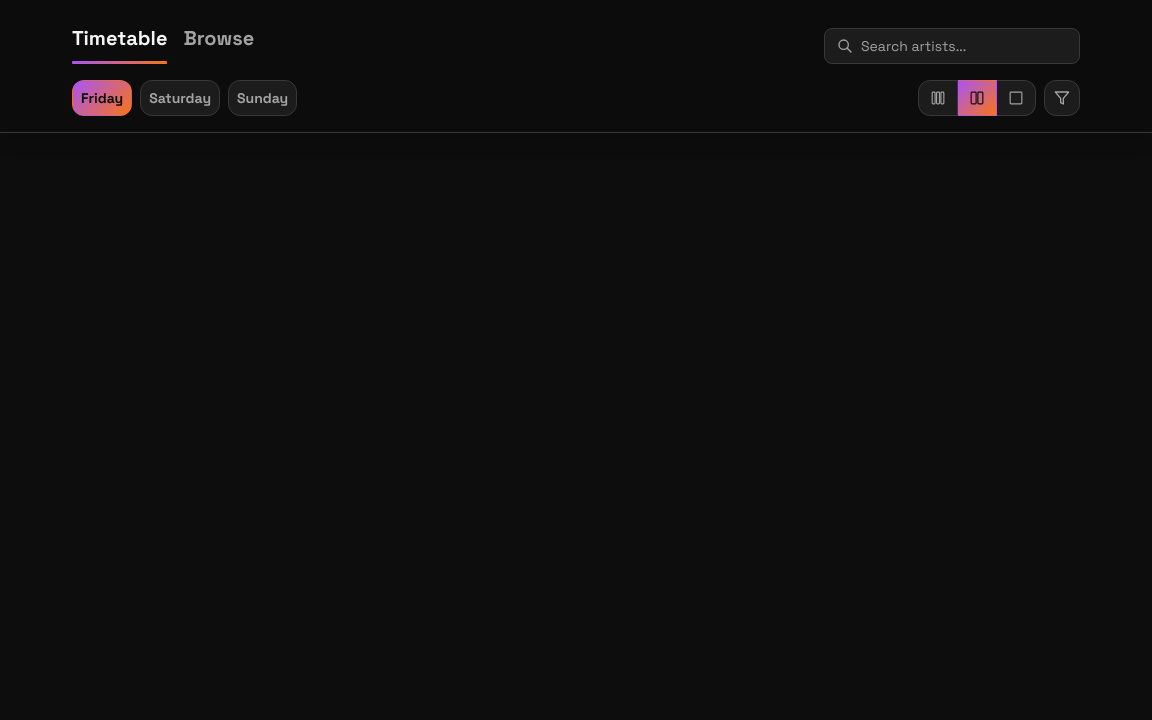
Test: Controls › opens filter dropdown and shows stage pills
Click the button named "Filters": click(1062, 98) x1=1044 y1=80 x2=1080 y2=116
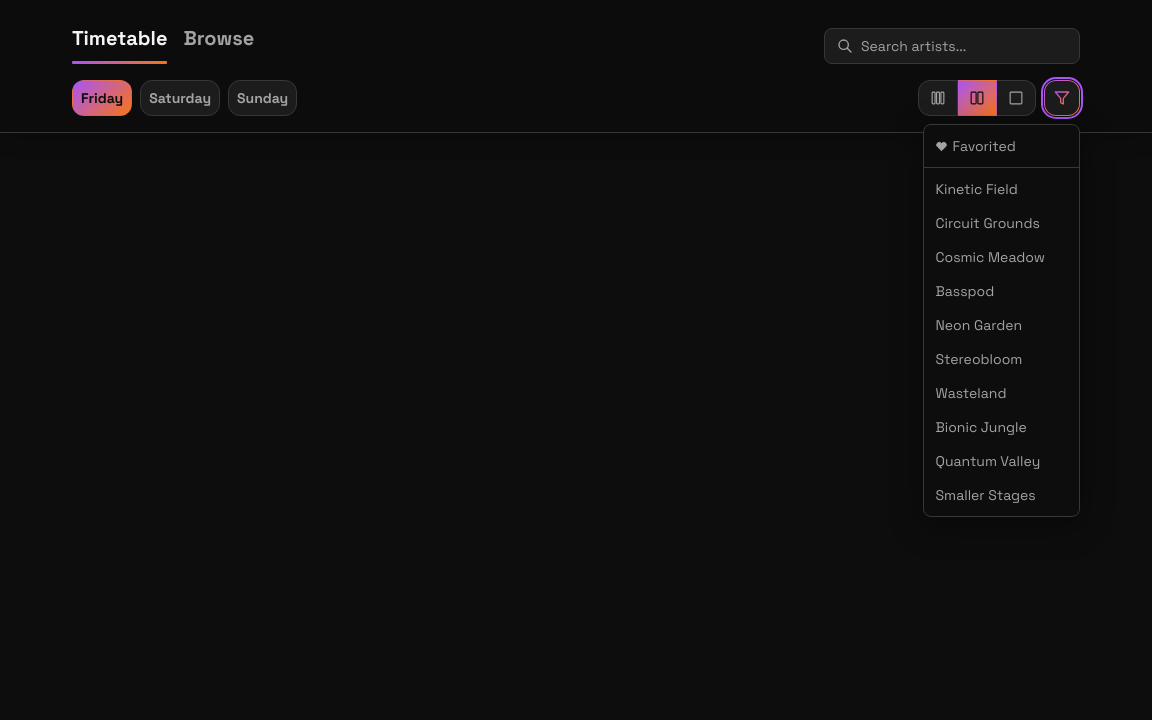
Result: the text "Kinetic Field" is shown at x1=936 y1=180 x2=1018 y2=198
Result: the text "Basspod" is shown at x1=936 y1=282 x2=994 y2=300
Result: the text "Neon Garden" is shown at x1=936 y1=316 x2=1022 y2=334
